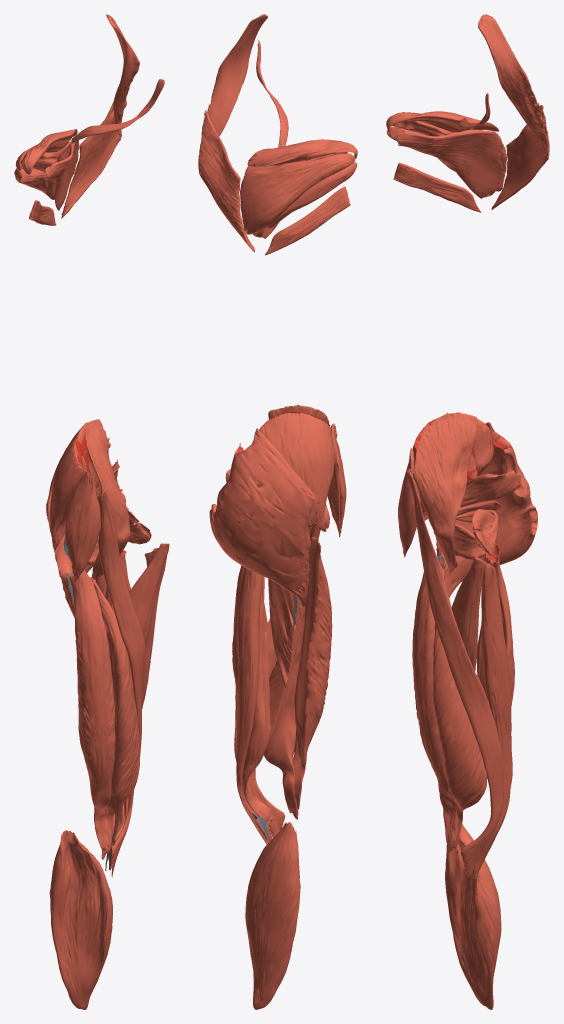
The model's file is atlas_supplement.glb.
3 views of the same model, side by side, from view 1: azimuth 30°, elevation 25°; view 2: azimuth 150°, elevation 25°; view 3: azimuth 330°, elevation 25° (orthographic). The views are drawn at different scales.
Visible parts, largest first — view 1: muscle_soleus, muscle_vastus_intermedius, muscle_vastus_medialis, muscle_sartorius, muscle_tensor_fasciae_latae, muscle_iliacus, muscle_rhomboid_major, muscle_gluteus_medius, muscle_adductor_longus, muscle_splenius_capitis, muscle_subscapularis, muscle_gluteus_maximus (+9 smaller); view 2: muscle_gluteus_maximus, muscle_soleus, muscle_vastus_intermedius, muscle_semitendinosus, muscle_infraspinatus, muscle_gluteus_medius, muscle_semimembranosus, muscle_vastus_medialis, muscle_rhomboid_major, muscle_splenius_capitis, muscle_adductor_longus, muscle_supraspinatus (+7 smaller); view 3: muscle_sartorius, muscle_soleus, muscle_iliacus, muscle_vastus_medialis, muscle_gracilis, muscle_gluteus_maximus, muscle_vastus_intermedius, muscle_subscapularis, muscle_splenius_capitis, muscle_rhomboid_major, muscle_adductor_longus, muscle_teres_major (+8 smaller).
Part boxes in pixels (<box>): muscle_soleus: <box>49,830,112,1009</box>; muscle_vastus_intermedius: <box>69,569,115,850</box>; muscle_vastus_medialis: <box>91,577,139,859</box>; muscle_sartorius: <box>95,486,145,876</box>; muscle_tensor_fasciae_latae: <box>65,470,100,582</box>; muscle_iliacus: <box>85,419,130,579</box>; muscle_rhomboid_major: <box>61,93,127,218</box>; muscle_gluteus_medius: <box>50,422,89,550</box>; muscle_adductor_longus: <box>129,543,169,666</box>; muscle_splenius_capitis: <box>106,14,139,136</box>; muscle_subscapularis: <box>45,140,79,210</box>; muscle_gluteus_maximus: <box>46,438,132,618</box>; muscle_gluteus_maximus: <box>209,428,318,606</box>; muscle_soleus: <box>245,822,300,1009</box>; muscle_vastus_intermedius: <box>290,537,332,809</box>; muscle_semitendinosus: <box>236,567,271,844</box>; muscle_infraspinatus: <box>240,153,355,234</box>; muscle_gluteus_medius: <box>259,412,334,531</box>; muscle_semimembranosus: <box>232,565,270,821</box>; muscle_vastus_medialis: <box>263,594,304,819</box>; muscle_rhomboid_major: <box>198,110,254,252</box>; muscle_splenius_capitis: <box>207,14,267,136</box>; muscle_adductor_longus: <box>268,578,302,688</box>; muscle_supraspinatus: <box>247,139,357,167</box>; muscle_sartorius: <box>407,469,503,877</box>; muscle_soleus: <box>445,824,501,1009</box>; muscle_iliacus: <box>413,412,477,573</box>; muscle_vastus_medialis: <box>433,566,487,852</box>; muscle_gracilis: <box>473,559,512,879</box>; muscle_gluteus_maximus: <box>433,422,537,597</box>; muscle_vastus_intermedius: <box>412,572,457,844</box>; muscle_subscapularis: <box>396,129,503,198</box>; muscle_splenius_capitis: <box>478,14,548,156</box>; muscle_rhomboid_major: <box>491,105,549,209</box>; muscle_adductor_longus: <box>447,556,484,671</box>; muscle_teres_major: <box>393,162,481,212</box>.
Bounding box in the file's own units: 0.1983 × 1.44 × 0.1746.
